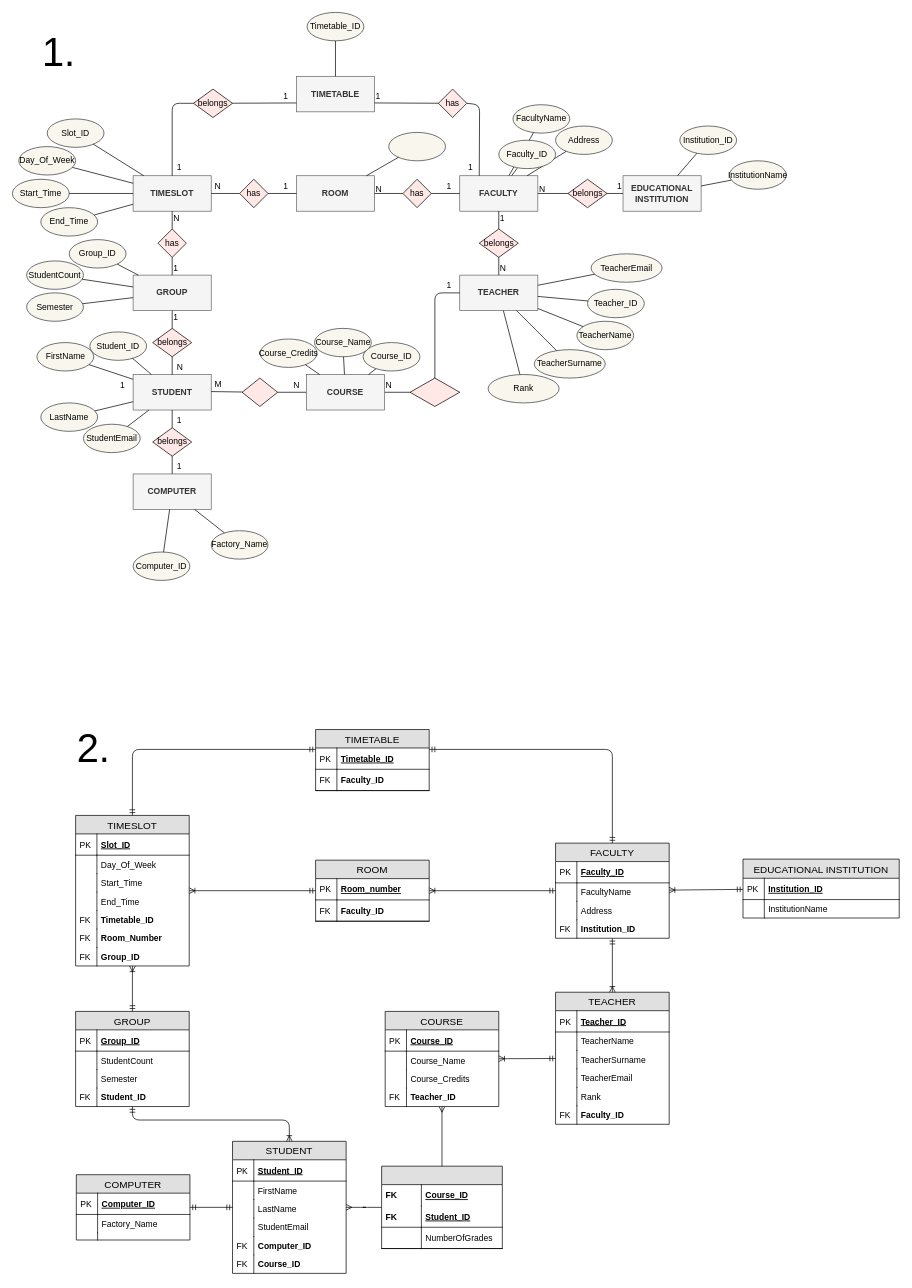
This 912x1288 diagram has some shape labels left out. Each missing label, with the box of its shape:
learns: (241, 377, 278, 406)
Room number: (388, 132, 446, 161)
STUDENT COURSE: (381, 1165, 502, 1249)
teaches: (409, 377, 460, 406)
